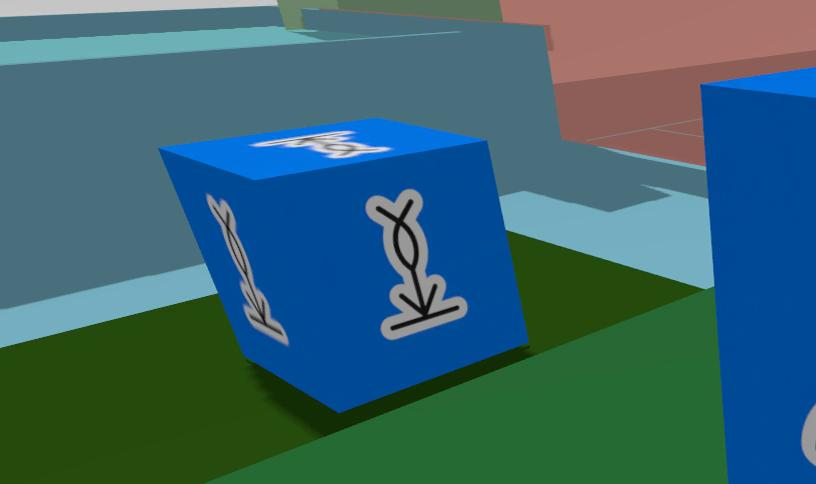KFS_REAL: (159, 119, 525, 411), (702, 67, 816, 484), (366, 189, 467, 339), (206, 194, 288, 344), (253, 131, 391, 158), (801, 404, 816, 466)
